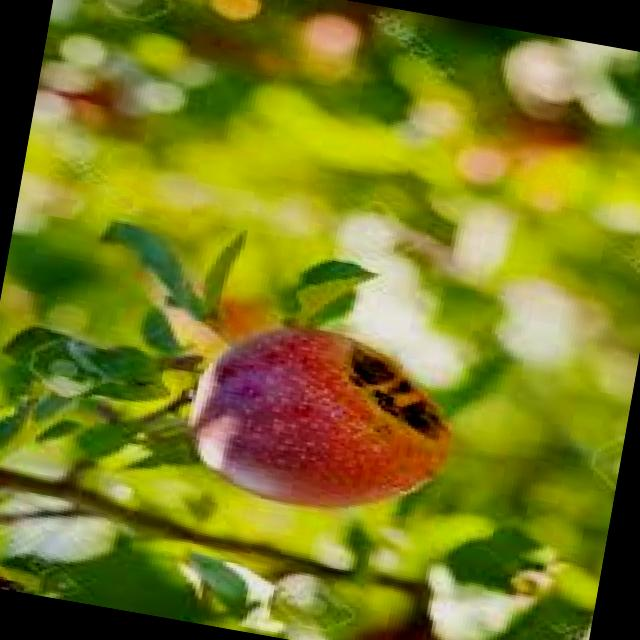Rotten Apple: (180, 315, 460, 524)
